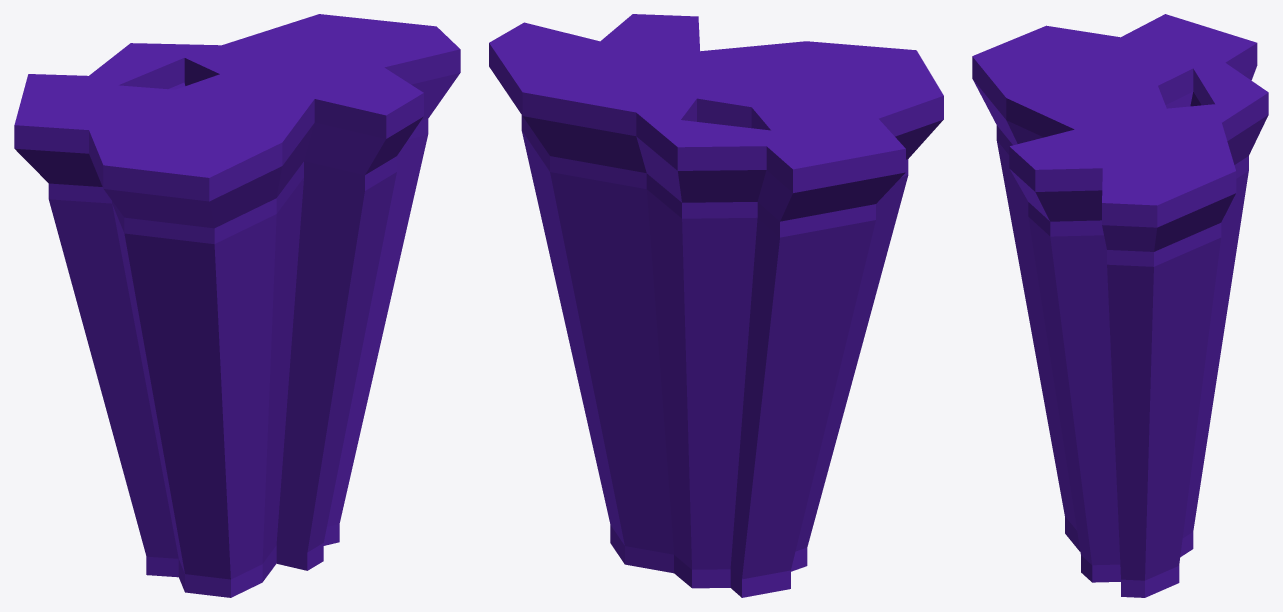
3 views of the same model, side by side, from view 1: azimuth 30°, elevation 25°; view 2: azimuth 150°, elevation 25°; view 3: azimuth 270°, elevation 25° (orthographic). The views are drawn at different scales.
Parts seen in each view (by area): view 1: JN; view 2: JN; view 3: JN.
Part boxes in pixels (bbox=[...]): JN: bbox=[14, 14, 460, 597]; JN: bbox=[489, 14, 943, 597]; JN: bbox=[972, 14, 1268, 597].
Bounding box in the file's own units: 48.61 × 52.63 × 31.81.
